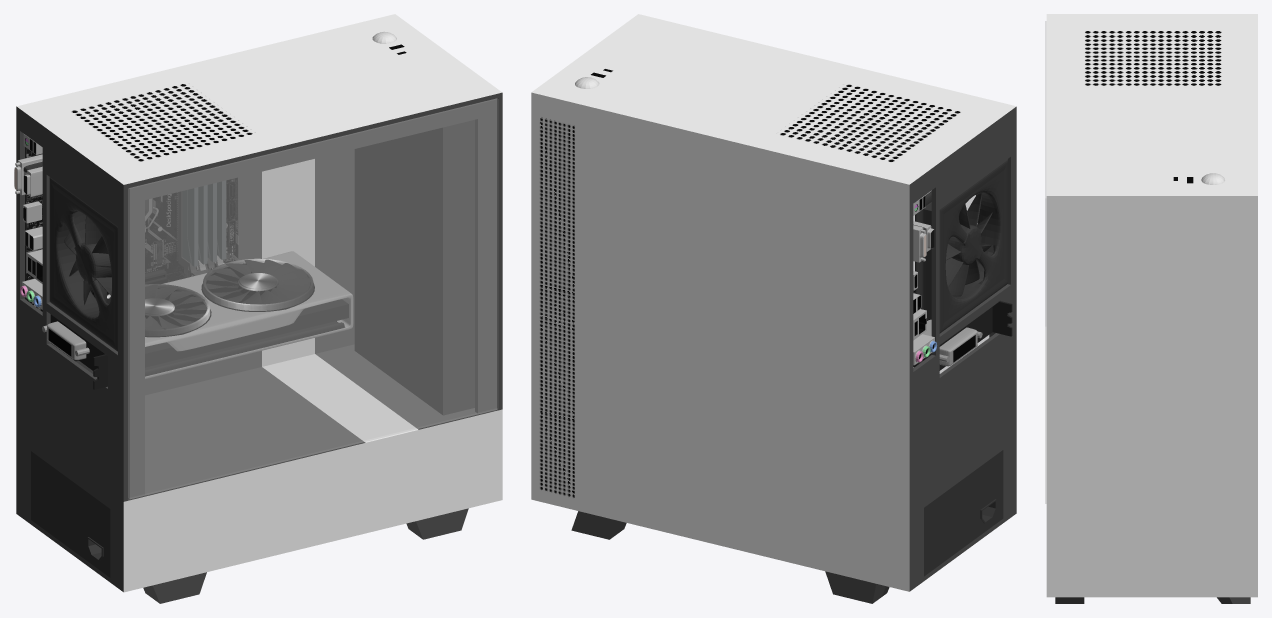
The model's file is desktop_3.glb.
3 renders of one model, left to right at view 1: azimuth 30°, elevation 25°; view 2: azimuth 150°, elevation 25°; view 3: azimuth 270°, elevation 25°, orthographic.
Visible parts, largest first — view 1: Cube; view 2: Cube; view 3: Cube.
Boxes of the visible parts, box(x1,y1,x2,y2) form: Cube: box(14, 14, 502, 603); Cube: box(531, 14, 1016, 603); Cube: box(1045, 14, 1257, 603).
Bounding box in the file's own units: 17.41 × 18.59 × 8.33.
28 materials, 3 textured.
